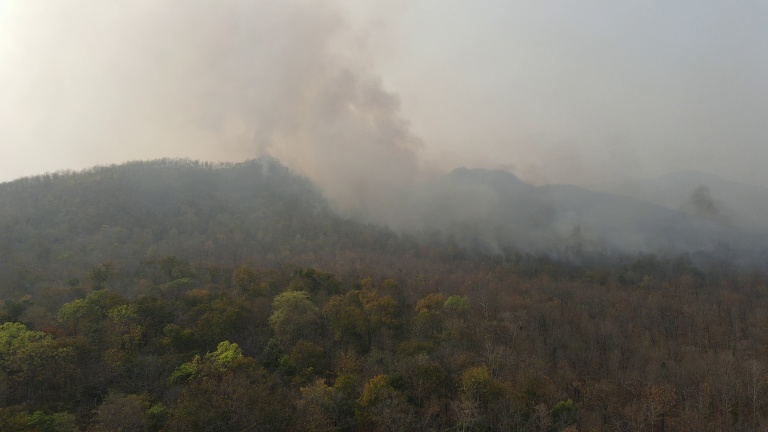smoke: (209, 5, 568, 251), (640, 179, 761, 254), (251, 124, 278, 181)
